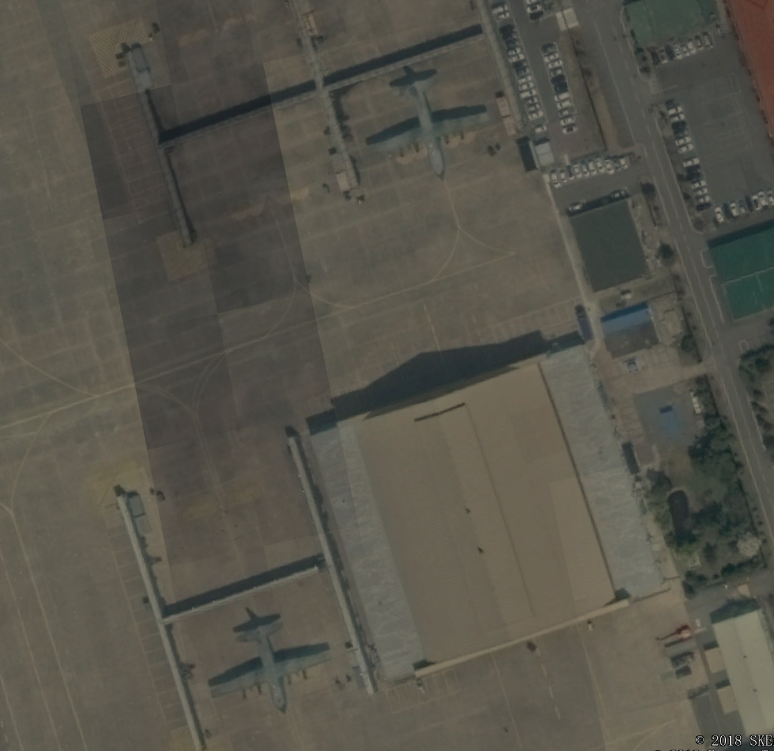A2: (358, 68, 491, 185), (202, 609, 339, 718)
